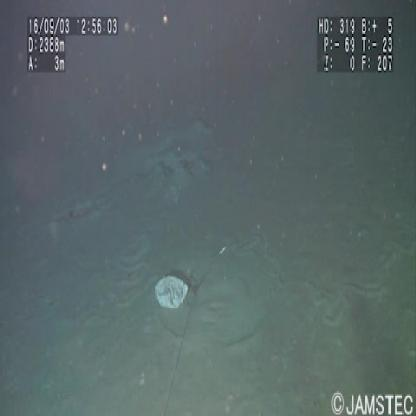Rác: (152, 268, 195, 317)
